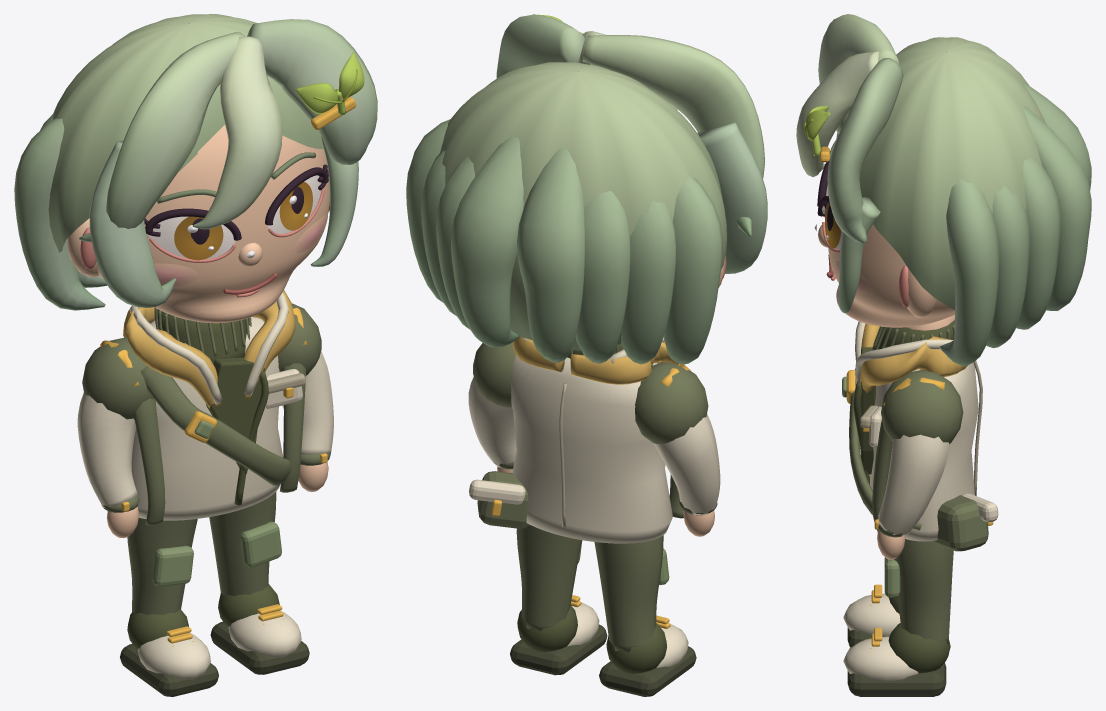
Rendered from sprout.glb.
3 renders of one model, left to right at view 1: azimuth 30°, elevation 25°; view 2: azimuth 150°, elevation 25°; view 3: azimuth 270°, elevation 25°, orthographic.
Parts seen in each view (by area): view 1: sprout; view 2: sprout; view 3: sprout.
Part boxes in pixels (bbox=[...]): sprout: bbox=[14, 14, 377, 696]; sprout: bbox=[406, 14, 767, 696]; sprout: bbox=[796, 14, 1091, 696].
Bounding box in the file's own units: 1.25 × 2.4 × 1.02.
